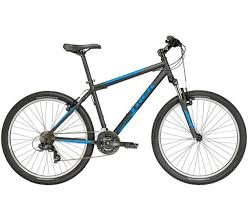bicycle: (4, 34, 246, 188)
